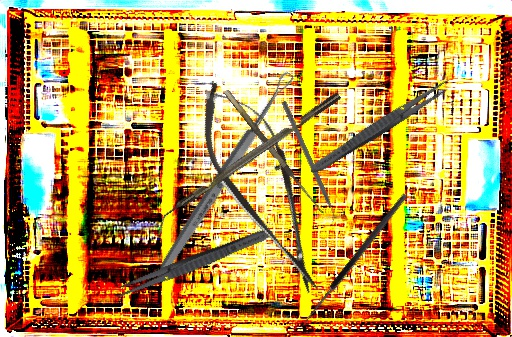Chopper: (149, 91, 348, 235), (274, 100, 341, 228)
Dressing Forceps: (306, 74, 455, 179), (109, 223, 276, 304)
Hook Surgical: (298, 192, 415, 335), (223, 84, 331, 216)
Micro Scissor: (179, 68, 347, 307)
Surgical Spoon: (156, 69, 297, 275)
